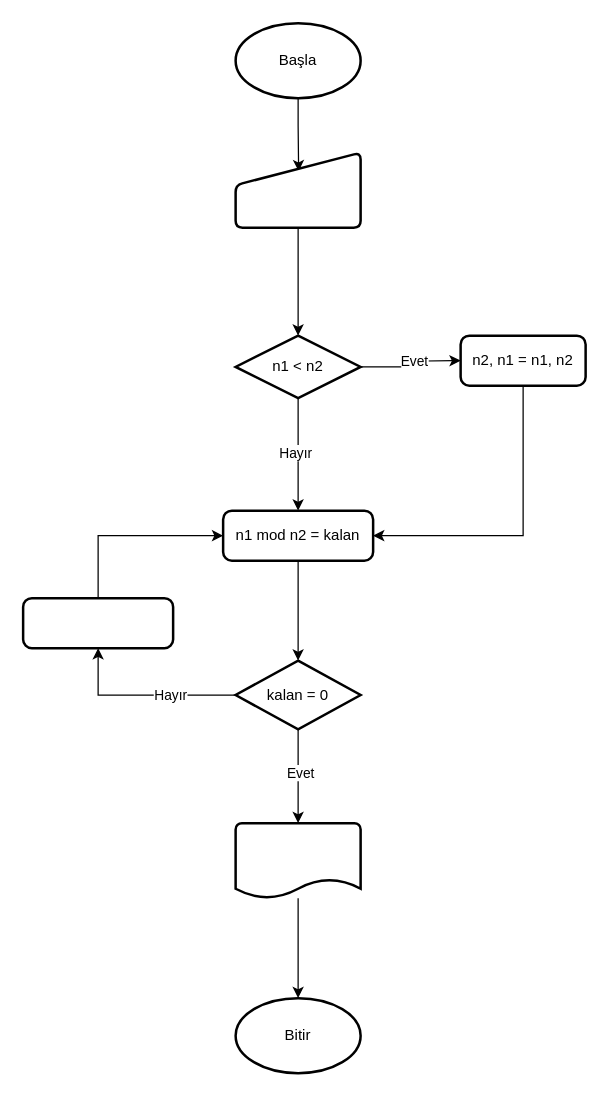
Some shapes in this 608 by 1095 pixel diagram are drawn without their labels. Here are the shapes that lost their labels. From the top down, the centre of each, then its label:
At (297,189): "n1 ve n2".
At (97,622): "n2, kalan = n1, n2".
At (297,860): "EBOB = n2".
